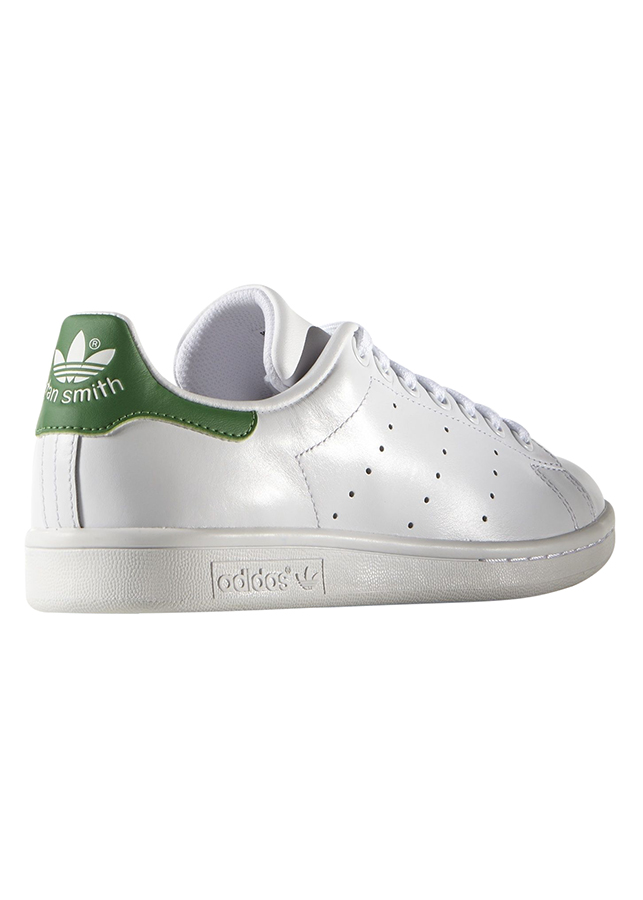Adidas: (45, 329, 121, 392), (217, 558, 323, 595)
